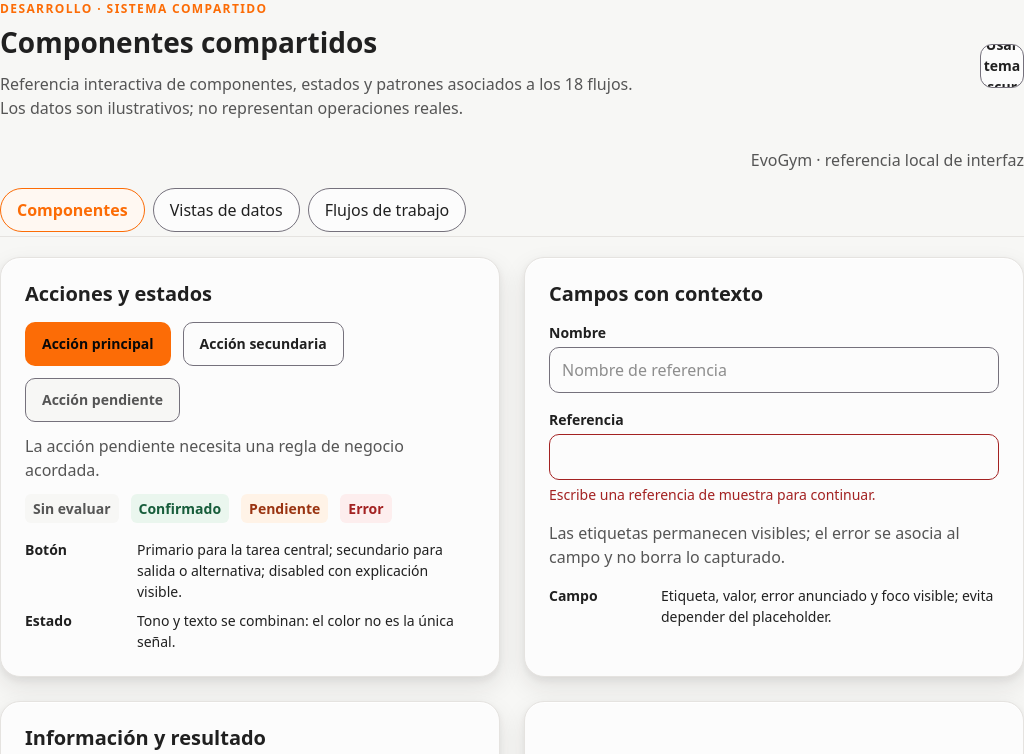
shared component catalog foundation › covers all eighteen planned workflow references with explicitly fictional examples
This screenshot has width=1024, height=754.
Click the tab "Flujos de trabajo".
click(387, 210)  # box [308, 188, 466, 232]
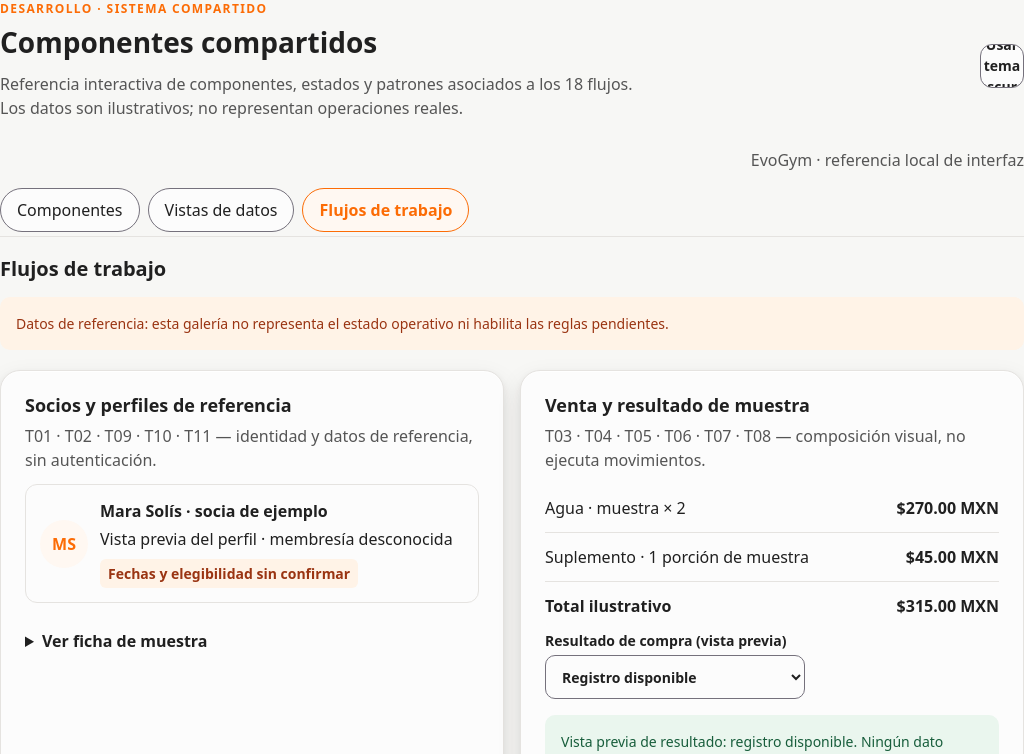
Now the text "Datos de referencia: esta galería no representa el estado operativo ni habilita las reglas pendientes." is shown, box [16, 314, 669, 333]
